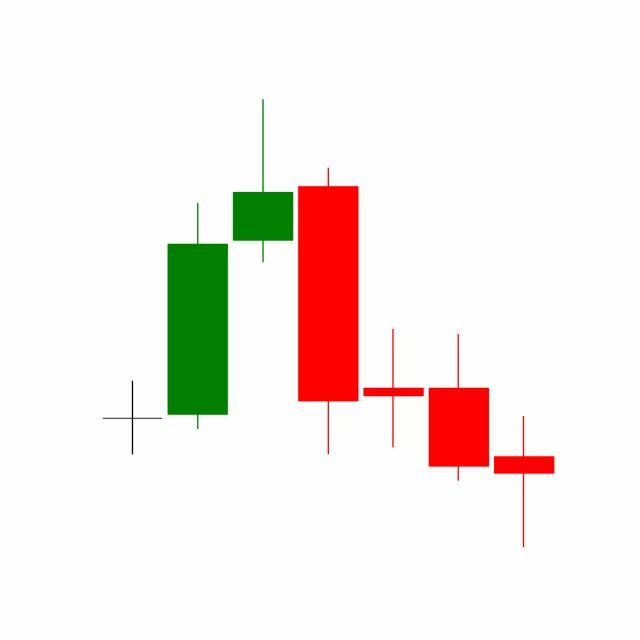Hikkake Pattern: (165, 99, 492, 486)
